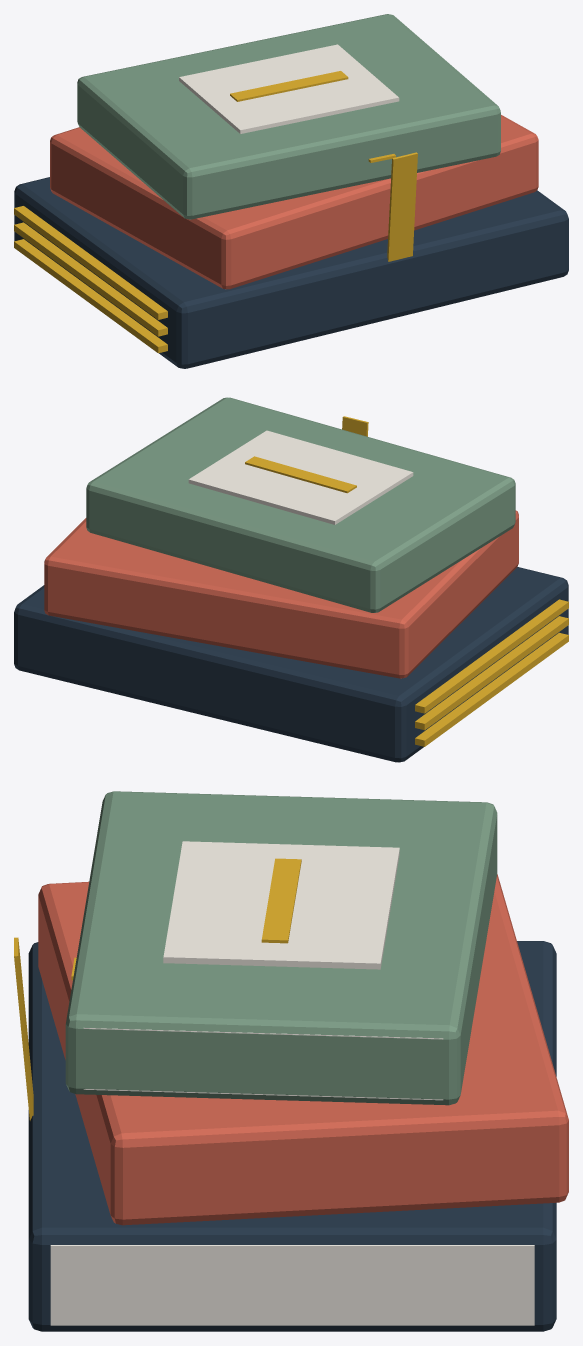
Rendered from Collectible_Books.glb.
3 views of the same model, one above another, from view 1: azimuth 30°, elevation 25°; view 2: azimuth 150°, elevation 25°; view 3: azimuth 270°, elevation 25° (orthographic). The views are drawn at different scales.
Parts seen in each view (by area): view 1: Collectible_Books; view 2: Collectible_Books; view 3: Collectible_Books.
Part boxes in pixels (x1,y1,x2,y2): Collectible_Books: (14,14,568,368); Collectible_Books: (14,397,568,762); Collectible_Books: (14,791,568,1331).
Size of the model in its own units: 0.329 by 0.1425 by 0.2524.
